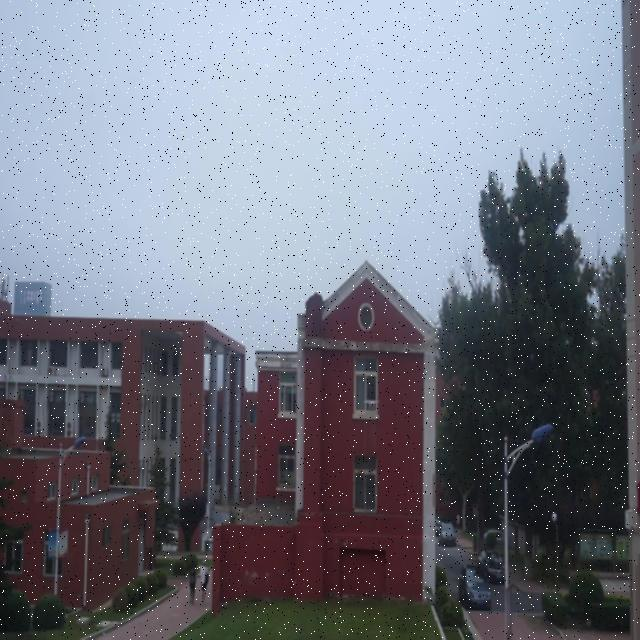UAV: (363, 399, 380, 410)
